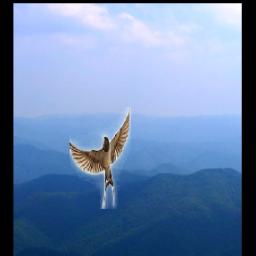Swallow: (69, 108, 130, 210)
